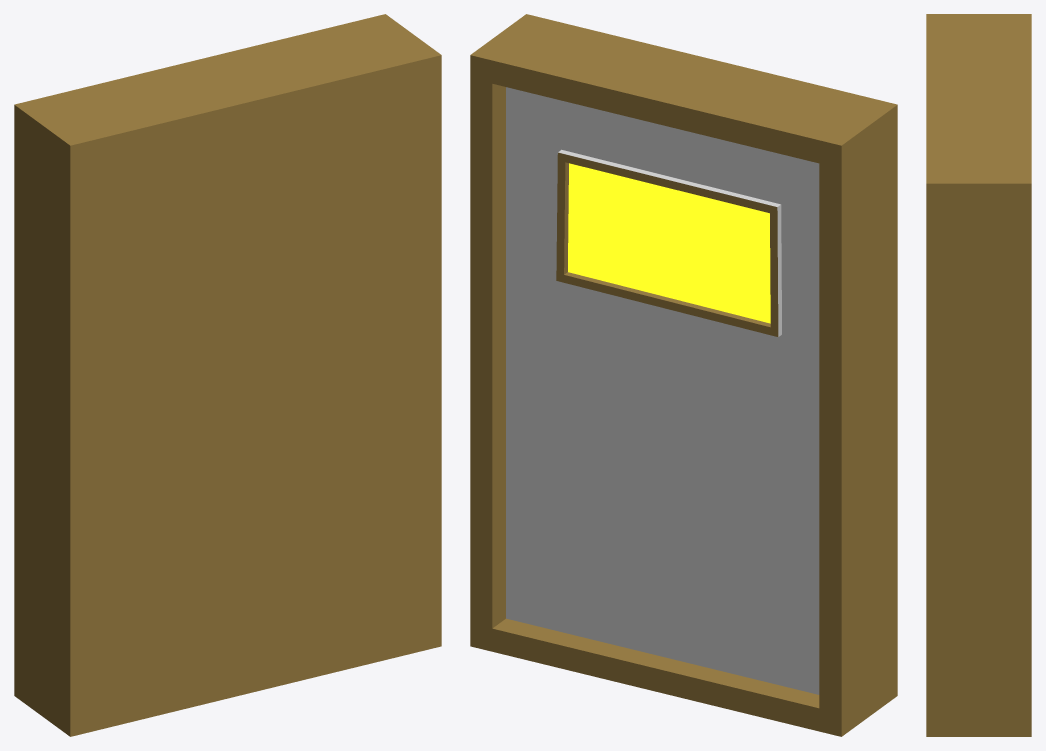
The model's file is Door.fbx.
The picture shows the model from 3 angles, left to right: view 1: azimuth 30°, elevation 25°; view 2: azimuth 150°, elevation 25°; view 3: azimuth 270°, elevation 25°; orthographic projection. The views are drawn at different scales.
Parts seen in each view (by area): view 1: Door.001; view 2: Door.001; view 3: Door.001.
Part boxes in pixels (<box>): Door.001: <box>14,14,441,736</box>; Door.001: <box>470,14,897,736</box>; Door.001: <box>926,14,1031,736</box>.
Size of the model in its own units: 345 by 525 by 90.34.
